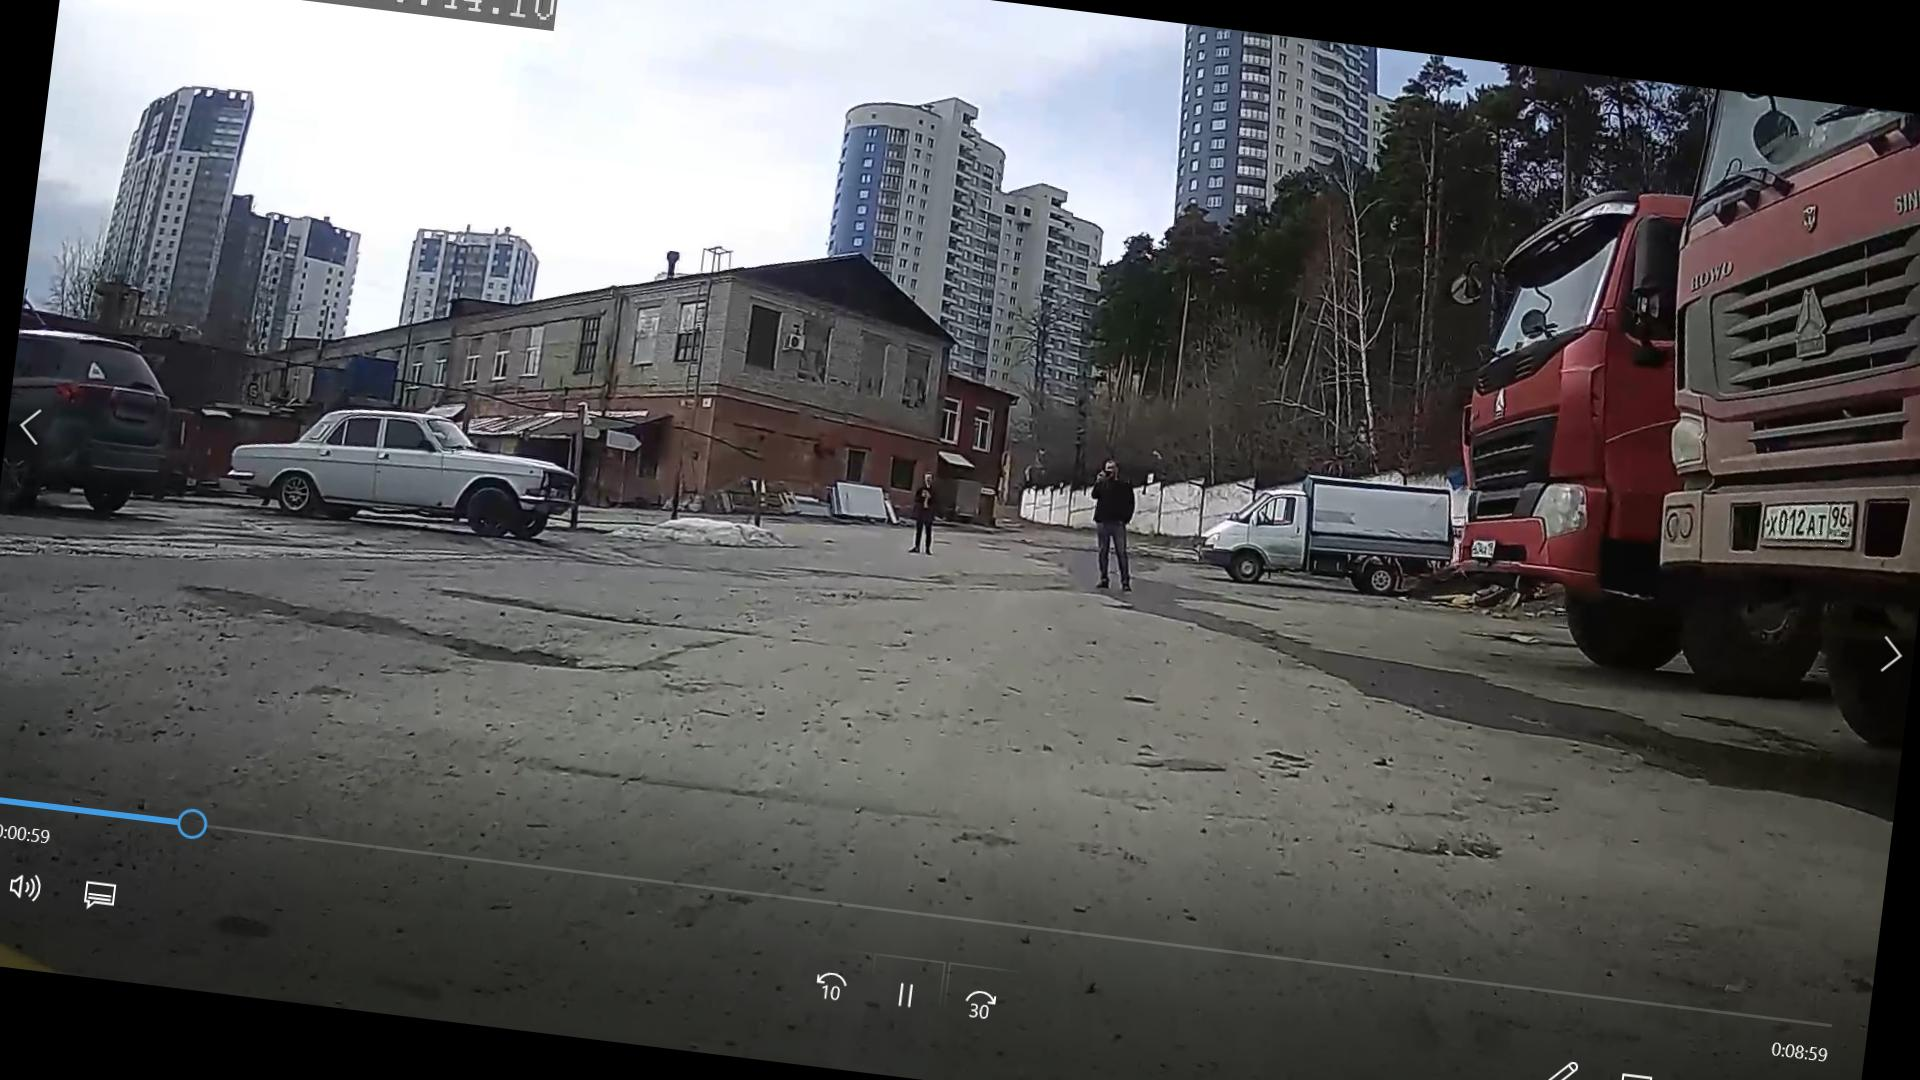plate: (1760, 494, 1854, 551)
